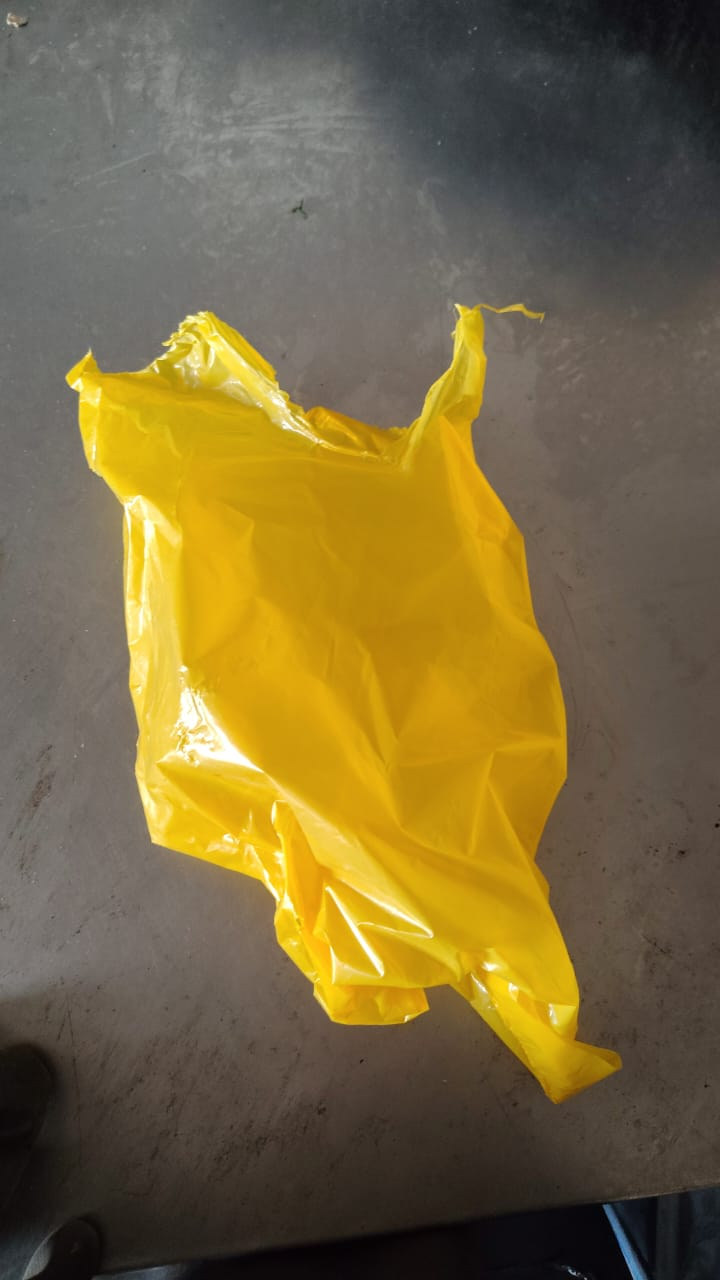Plastico: (64, 303, 623, 1109)
